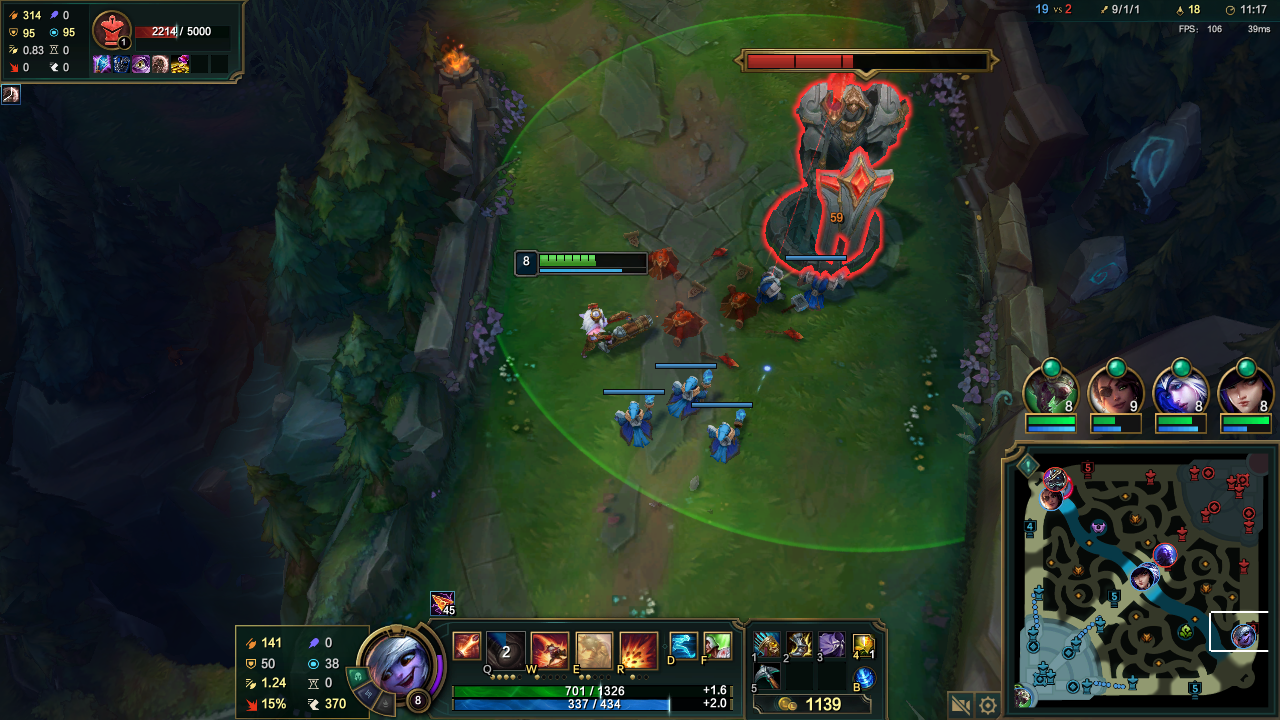DFFYT: (742, 45, 917, 269)
WFXB: (603, 394, 664, 450), (693, 411, 754, 467), (659, 373, 715, 417), (793, 269, 848, 313)
Yita: (1185, 675, 1203, 698)
